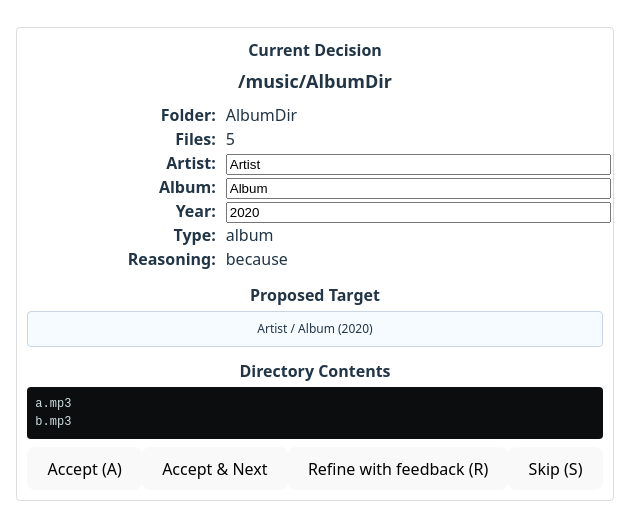
Scenario: shows year warning when non-numeric
Step 1. Replace the text in the 3rd field with placeholder "Year" with "twenty" → x=418, y=212, box [226,202,611,223]
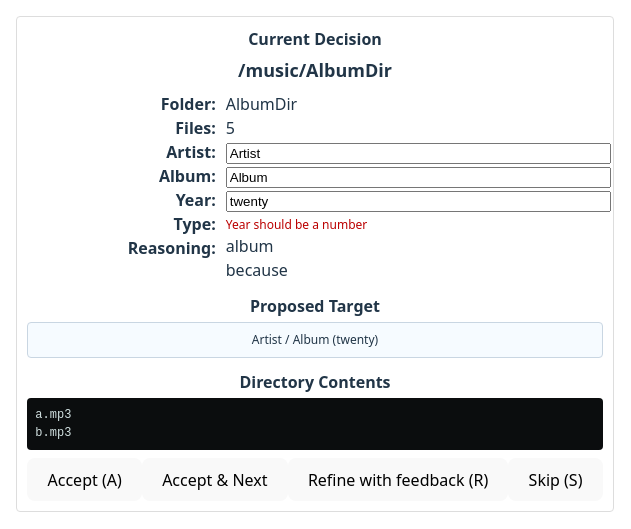
Expected: the text "Year should be a number" is shown, [226,216,367,233]
